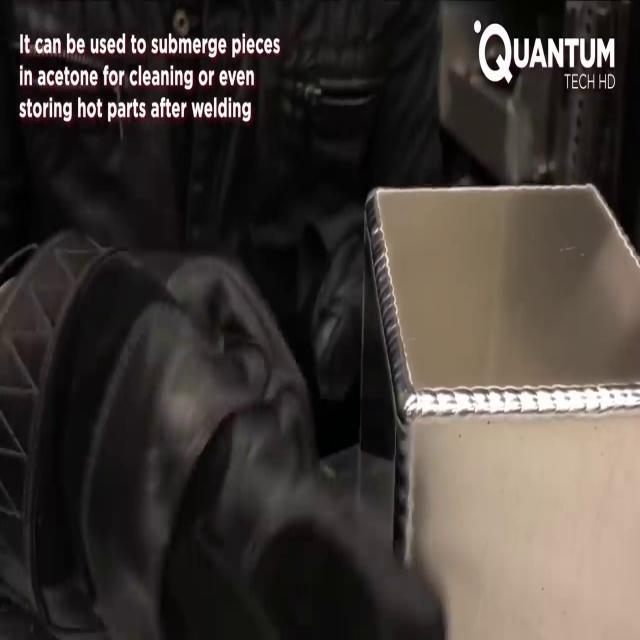Good Weld: (362, 196, 416, 406), (407, 382, 639, 417), (396, 415, 416, 559)
